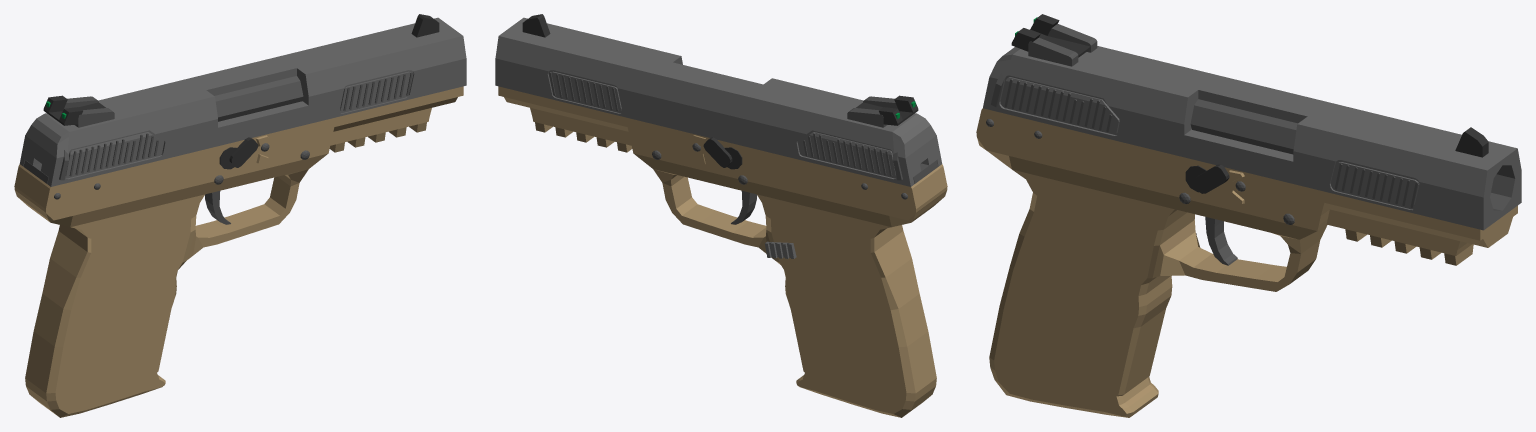
3 views of the same model, side by side, from view 1: azimuth 30°, elevation 25°; view 2: azimuth 150°, elevation 25°; view 3: azimuth 330°, elevation 25° (orthographic). The views are drawn at different scales.
Parts seen in each view (by area): view 1: Cube.001, Cube, Cylinder, Cube.069, Plane; view 2: Cube.001, Cube, Cube.072, Cube.073, Plane; view 3: Cube.001, Cube, Cylinder, Plane, Cylinder.001, Cube.069.
Boxes of the visible parts, x1,y1,x2,y2 form: Cube.001: (14,86,463,417); Cube: (19,14,466,186); Cylinder: (214,76,303,121); Cube.069: (229,137,258,167); Plane: (205,191,230,224); Cube.001: (498,86,947,417); Cube: (495,14,942,186); Cube.072: (703,137,732,167); Cube.073: (765,241,796,258); Plane: (731,191,756,224); Cube.001: (976,108,1517,417); Cube: (983,14,1521,230); Cylinder: (1190,99,1297,154); Plane: (1205,217,1237,265); Cylinder.001: (1490,165,1515,210); Cube.069: (1194,164,1229,193).
Bounding box in the file's own units: 929 × 641 × 140.
